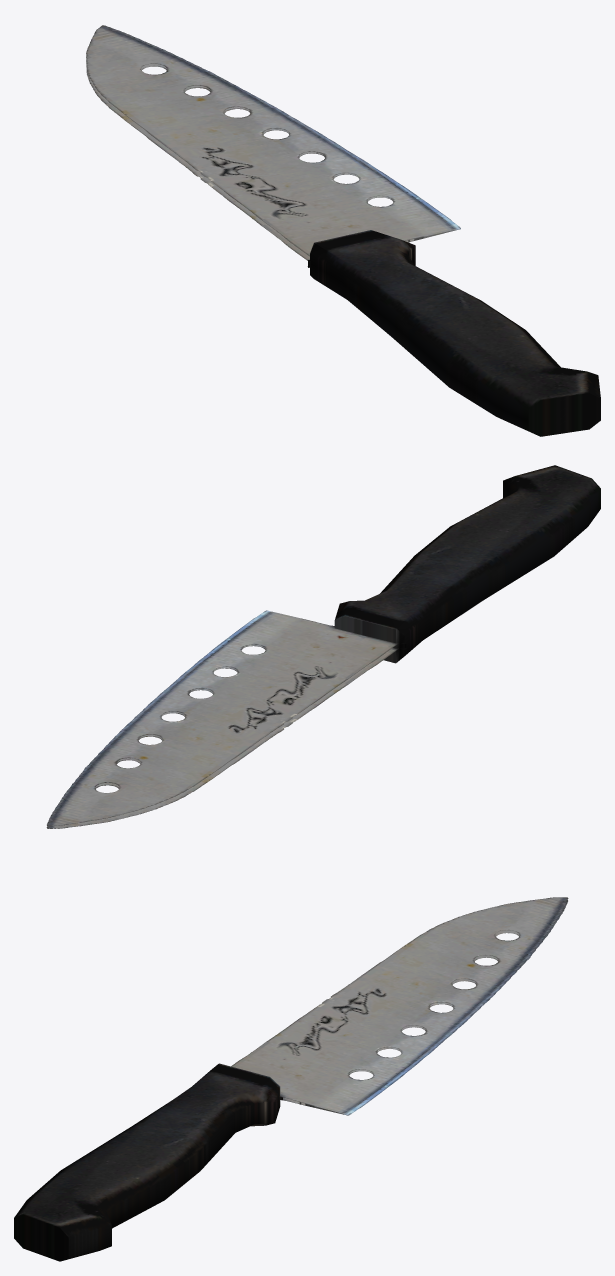
The model's file is knife-3.FBX.
3 renders of one model, top to bottom at view 1: azimuth 30°, elevation 25°; view 2: azimuth 150°, elevation 25°; view 3: azimuth 330°, elevation 25°, orthographic. The views are drawn at different scales.
Visible parts, largest first — view 1: Line01; view 2: Line01; view 3: Line01.
Boxes of the visible parts, bbox=[...] form: Line01: bbox=[86, 25, 600, 436]; Line01: bbox=[46, 465, 600, 828]; Line01: bbox=[14, 897, 568, 1261].
Size of the model in its own units: 3.37 by 0.6878 by 17.87.
